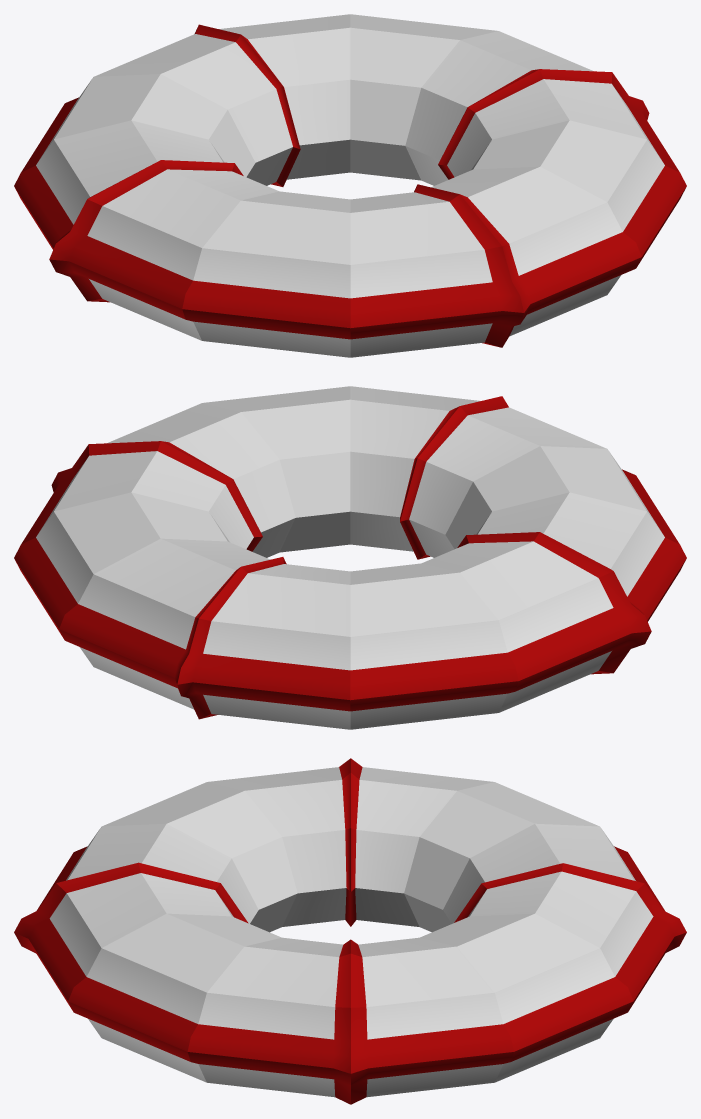
File: Life_Circle.fbx
3 views of the same model, one above another, from view 1: azimuth 30°, elevation 25°; view 2: azimuth 150°, elevation 25°; view 3: azimuth 270°, elevation 25° (orthographic). The views are drawn at different scales.
Visible parts, largest first — view 1: pTorus1; view 2: pTorus1; view 3: pTorus1.
Part boxes in pixels (bbox=[...]): pTorus1: bbox=[14, 14, 686, 357]; pTorus1: bbox=[14, 386, 686, 729]; pTorus1: bbox=[14, 758, 686, 1104].
Size of the model in its own units: 3.16 by 0.7272 by 3.16.
